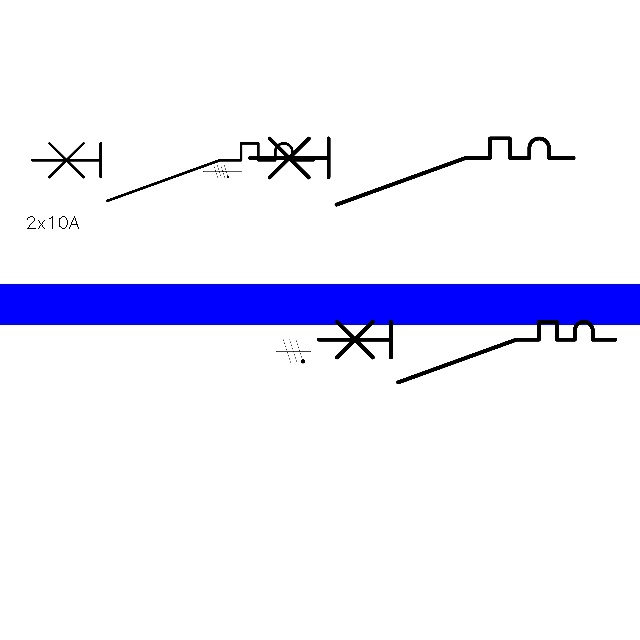interruptor_termomagnetico: (241, 130, 582, 213), (311, 314, 623, 390), (25, 136, 321, 208)
